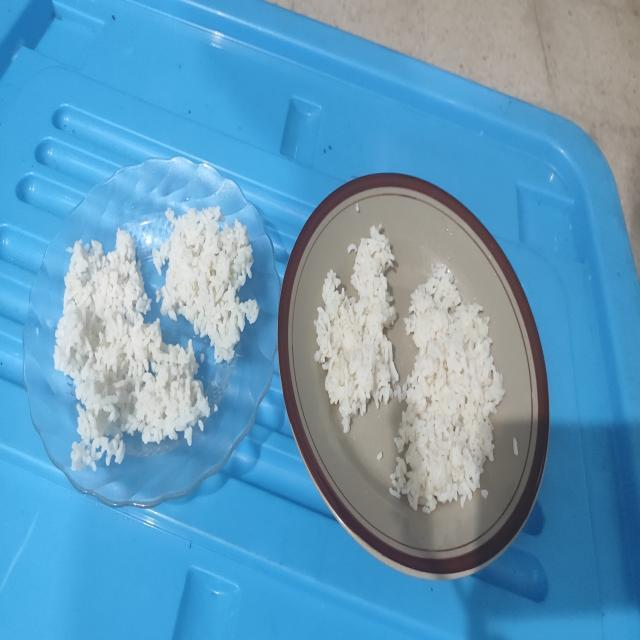nasi_putih: (54, 228, 210, 470), (390, 264, 505, 514), (314, 224, 400, 433), (153, 206, 260, 362)
